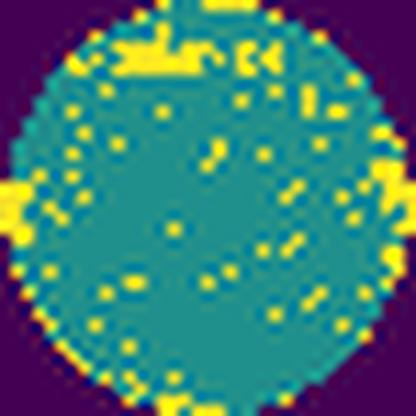Loc: (108, 21, 224, 78)
